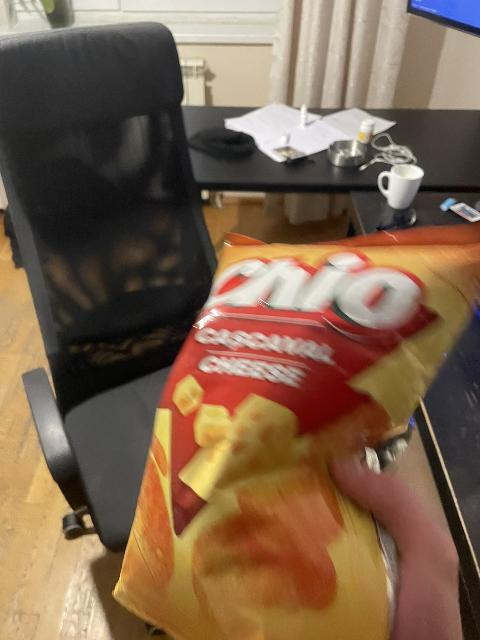Chio Cascaval 125g: (112, 227, 480, 637)
